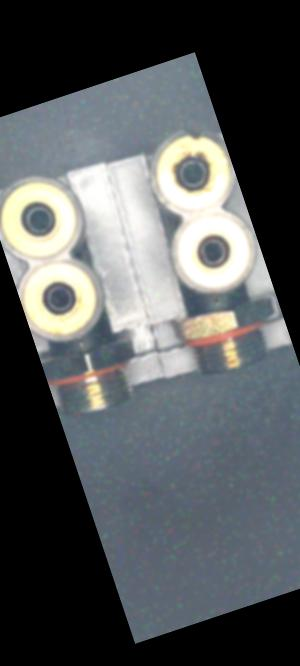bump: (168, 112, 213, 154)
craze: (207, 288, 228, 313), (71, 331, 90, 354)
